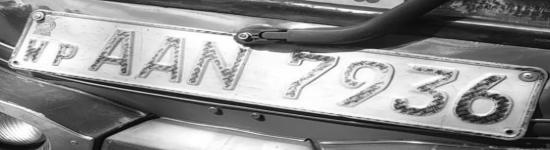3: (395, 62, 461, 120)
6: (453, 74, 518, 127)
7: (282, 48, 342, 103)
9: (339, 58, 398, 110)
A: (85, 27, 137, 77), (138, 31, 186, 85)
N: (187, 41, 254, 92)
P: (50, 43, 82, 67)
W: (20, 37, 50, 65)
